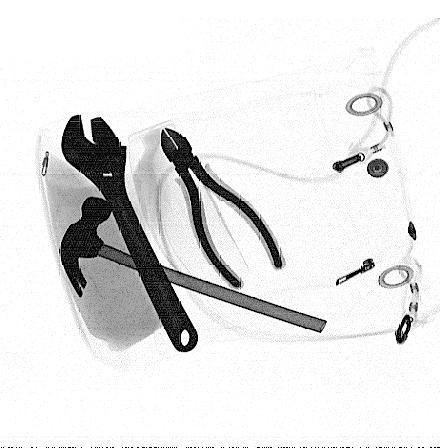Hammer: (58, 197, 332, 333)
Pliers: (158, 120, 291, 291)
Wrench: (61, 112, 198, 353)
